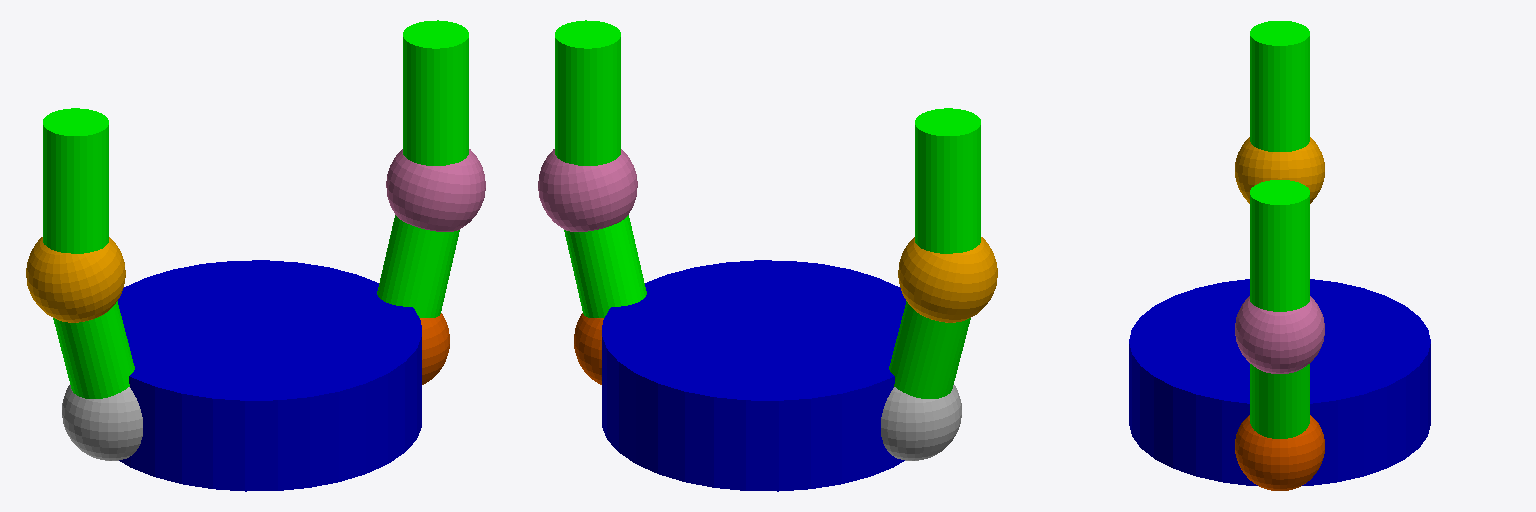
The robot description file, URDF, robot "gripper_3f_1j":
<?xml version="1.0"?>
<robot name="gripper_3f_1j">
    <link name="palm">
        <inertia>
            <mass value='3.0'/>
            <origin xyz='0 0 0'/>
            <inertia ixx="1.0" ixy="0.0" ixz="0.0" iyy="1.0" iyz="0.0" izz="1.0"/>
        </inertia>
        <visual>
            <geometry>
                <cylinder length="0.03" radius="0.05"/>
            </geometry>
            <material name="blue">
                <color rgba="0 0 .8 1"/>
            </material>
        </visual>
        <collision>
            <origin rpy="0 0 0 " xyz="0 0 0"/>
            <geometry>
                <cylinder length="0.04" radius="0.015"/>
            </geometry>
            <contact_coefficients kd="1.0" kp="10000.0" mu="1.5"/>
        </collision>
    </link>

    <link name='f11'>
        <inertia>
            <mass value='.1'/>
            <inertia ixx="0.01" ixy="0" ixz="0" iyy="0.01" iyz="0" izz="0.01"/>
        </inertia>
        <visual>
            <origin xyz='0 0 .025'/>
            <geometry>
                <cylinder length='.05' radius='.01'/>
            </geometry>
            <material name='green'>
                <color rgba='0 1 0 1'/>
            </material>
        </visual>
        <collision>
            <origin rpy="0 0 0 " xyz="0 0 0"/>
            <geometry>
                <cylinder length='.05' radius='.01'/>
            </geometry>
            <contact_coefficients kd="1.0" kp="10000.0" mu="1"/>
        </collision>
    </link>
    <link name='f12'>
        <inertia>
            <mass value='.1'/>
            <inertia ixx="0.01" ixy="0" ixz="0" iyy="0.01" iyz="0" izz="0.01"/>
        </inertia>
        <visual>
            <origin xyz='0 0 .025'/>
            <geometry>
                <cylinder length='.05' radius='.01'/>
            </geometry>
            <material name='green'>
                <color rgba='0 1 0 1'/>
            </material>
        </visual>
        <collision>
            <origin rpy="0 0 0 " xyz="0 0 0"/>
            <geometry>
                <cylinder length='.05' radius='.01'/>
            </geometry>
            <contact_coefficients kd="1.0" kp="10000.0" mu="1"/>
        </collision>
    </link>
    <link name='f21'>
        <inertia>
            <mass value='.1'/>
            <inertia ixx="0.01" ixy="0" ixz="0" iyy="0.01" iyz="0" izz="0.01"/>
        </inertia>
        <visual>
            <origin xyz='0 0 .025'/>
            <geometry>
                <cylinder length='.05' radius='.01'/>
            </geometry>
            <material name='green'>
                <color rgba='0 1 0 1'/>
            </material>
        </visual>
        <collision>
            <origin rpy="0 0 0 " xyz="0 0 0"/>
            <geometry>
                <cylinder length='.05' radius='.01'/>
            </geometry>
            <contact_coefficients kd="1.0" kp="10000.0" mu="1"/>
        </collision>
    </link>
    <link name='f22'>
        <inertia>
            <mass value='.1'/>
            <inertia ixx="0.01" ixy="0" ixz="0" iyy="0.01" iyz="0" izz="0.01"/>
        </inertia>
        <visual>
            <origin xyz='0 0 .025'/>
            <geometry>
                <cylinder length='.05' radius='.01'/>
            </geometry>
            <material name='green'>
                <color rgba='0 1 0 1'/>
            </material>
        </visual>
        <collision>
            <origin rpy="0 0 0 " xyz="0 0 0"/>
            <geometry>
                <cylinder length='.05' radius='.01'/>
            </geometry>
            <contact_coefficients kd="1.0" kp="10000.0" mu="1"/>
        </collision>
    </link>

    <link name='f11_slot'>
        <visual>
            <origin xyz='0 0 0'/>
            <geometry>
                <sphere radius='.015'/>
            </geometry>
        </visual>
    </link>
    <link name='f12_slot'>
        <visual>
            <geometry>
                <sphere radius='.015'/>
            </geometry>
        </visual>
    </link>
    <link name='f21_slot'>
        <visual>
            <origin xyz='0 0 0'/>
            <geometry>
                <sphere radius='.015'/>
            </geometry>
        </visual>
    </link>
    <link name='f22_slot'>
        <visual>
            <geometry>
                <sphere radius='.015'/>
            </geometry>
        </visual>
    </link>

    <joint name='f11_joint' type="revolute">
        <origin xyz="0 0 .0" rpy="0 .25 0"/>
        <parent link='f11_slot'/>
        <child link='f11'/>
        <axis xyz='0 1 0'/>
        <dynamics damping='100.0' friction='1.0'/>
        <limit effort='30' lower='-.4' upper='.25' velocity='2.0'/>
    </joint>
    <joint name='f12_joint' type="revolute">
        <origin xyz="0 0 .0" rpy="0 -.0 0"/>
        <parent link='f12_slot'/>
        <child link='f12'/>
        <axis xyz='0 1 0'/>
        <dynamics damping='100.0' friction='1.0'/>
        <limit effort='30' lower='-.65' upper='.0' velocity='2.0'/>
		<mimic joint='f11_joint' multiplier='1' offset='-.25'/>
	</joint>
    <joint name='f21_joint' type="revolute">
        <origin xyz="0 0 .0" rpy=".0 -.25 0"/>
        <parent link='f21_slot'/>
        <child link='f21'/>
        <axis xyz='0 -1 0'/>
        <dynamics damping='100.0' friction='1.0'/>
        <limit effort='30' lower='-.4' upper='.25' velocity='2.0'/>
    </joint>
    <joint name='f22_joint' type="revolute">
        <origin xyz="0 0 .0" rpy="0 -.0 0"/>
        <parent link='f22_slot'/>
        <child link='f22'/>
        <axis xyz='0 -1 0'/>
        <dynamics damping='100.0' friction='1.0'/>
        <limit effort='30' lower='-.65' upper='.0' velocity='2.0'/>
		<mimic joint='f21_joint' multiplier='1' offset='-.25'/>
	</joint>


    <joint name='f11_slot_joint' type="fixed">
        <origin xyz=".05 0 .0" rpy="0 0 0"/>
        <parent link='palm'/>
        <child link='f11_slot'/>
    </joint>
    <joint name='f12_slot_joint' type="fixed">
        <origin xyz="0 0 .05" rpy="0 0 0"/>
        <parent link='f11'/>
        <child link='f12_slot'/>
    </joint>
    <joint name='f21_slot_joint' type="fixed">
        <origin xyz="-.05 -0.0 .0" rpy="0 0 0"/>
        <parent link='palm'/>
        <child link='f21_slot'/>
    </joint>
    <joint name='f22_slot_joint' type="fixed">
        <origin xyz="0 0 .05" rpy="0 0 0"/>
        <parent link='f21'/>
        <child link='f22_slot'/>
    </joint>
    
</robot>

--- Facts derived from the render (not from the file) ---
3 views of the same robot in one strip: view 1: azimuth 30°, elevation 25°; view 2: azimuth 150°, elevation 25°; view 3: azimuth 270°, elevation 25° (orthographic).
Model gripper_3f_1j with 9 links and 8 joints (4 revolute, 4 fixed), rooted at palm, posed all joints at 0.
Links seen in each view (by area): view 1: palm, f22, f12, f22_slot, f12_slot, f11, f21, f21_slot, f11_slot; view 2: palm, f22, f12, f22_slot, f12_slot, f11, f21, f21_slot, f11_slot; view 3: palm, f12, f22, f12_slot, f11_slot, f11, f22_slot.
Boxes of the visible links, box(x1,y1,x2,y2) form: palm: box(118, 260, 421, 491); f22: box(43, 108, 108, 253); f12: box(403, 20, 468, 165); f22_slot: box(26, 237, 125, 322); f12_slot: box(386, 149, 485, 231); f11: box(377, 215, 459, 317); f21: box(53, 301, 134, 398); f21_slot: box(62, 385, 142, 460); f11_slot: box(420, 313, 449, 384); palm: box(602, 260, 905, 491); f22: box(915, 108, 980, 253); f12: box(555, 20, 620, 165); f22_slot: box(898, 237, 997, 322); f12_slot: box(538, 149, 637, 231); f11: box(564, 215, 646, 317); f21: box(889, 301, 970, 398); f21_slot: box(881, 385, 961, 460); f11_slot: box(574, 313, 603, 384); palm: box(1129, 279, 1430, 485); f12: box(1250, 180, 1309, 311); f22: box(1250, 21, 1309, 151); f12_slot: box(1235, 296, 1324, 373); f11_slot: box(1235, 415, 1324, 490); f11: box(1250, 364, 1309, 438); f22_slot: box(1235, 137, 1324, 203).
Size in the robot's own frame: 0.1547 by 0.1 by 0.1134 metres.
Geometry: primitives only (box / cylinder / sphere), no mesh files.